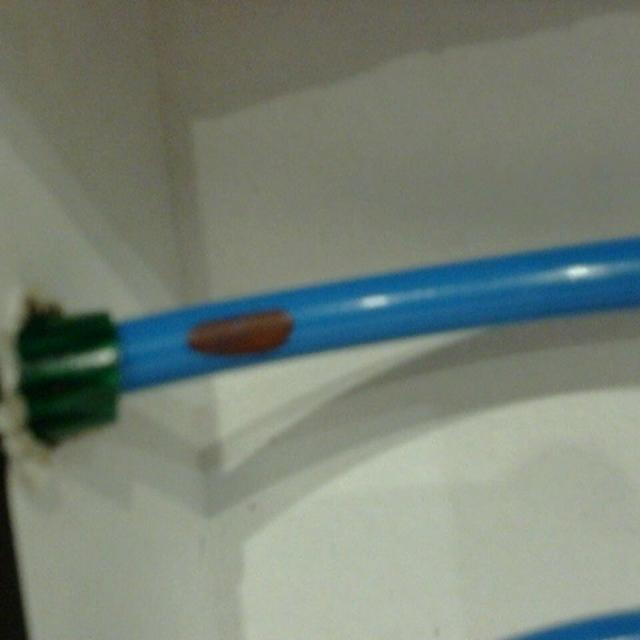hose_damage: (178, 309, 308, 364)
